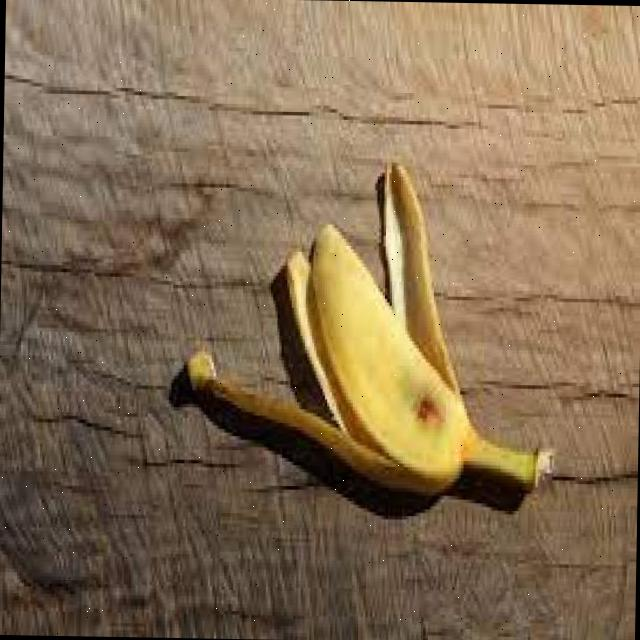banana-peel: (163, 154, 560, 522)
